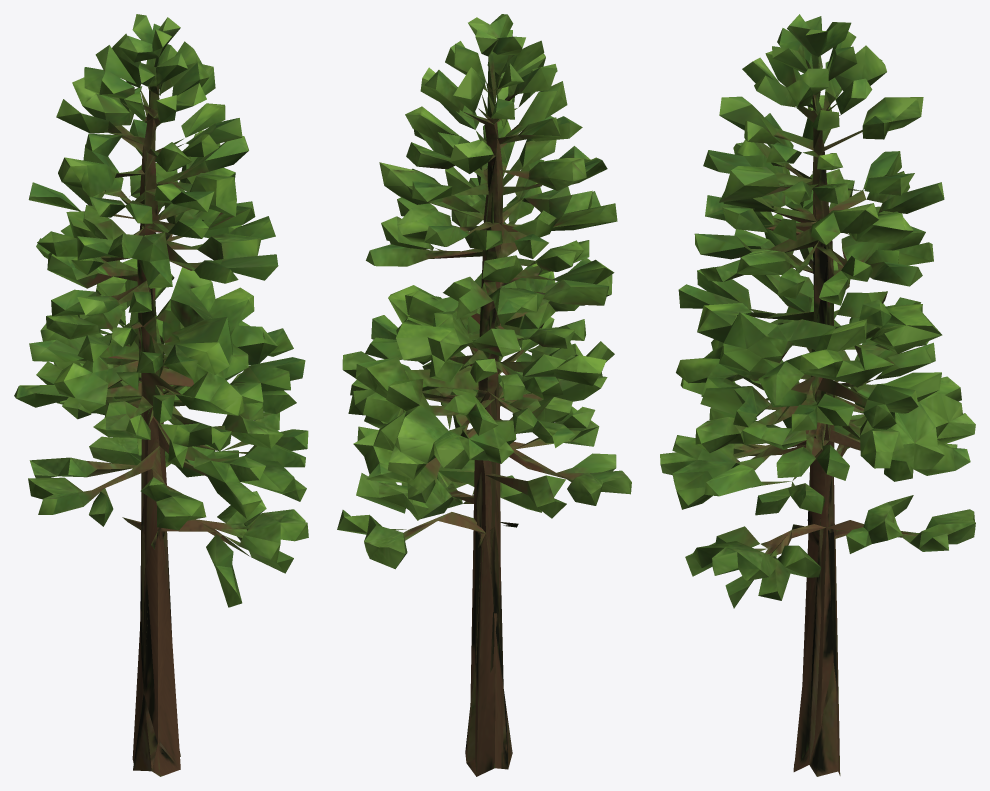
The picture shows the model from 3 angles, left to right: view 1: azimuth 30°, elevation 25°; view 2: azimuth 150°, elevation 25°; view 3: azimuth 270°, elevation 25°; orthographic projection.
Visible parts, largest first — view 1: pine; view 2: pine; view 3: pine.
Boxes of the visible parts, left/top/right/bottom form: pine: left=14, top=14, right=308, bottom=776; pine: left=337, top=14, right=631, bottom=776; pine: left=660, top=14, right=975, bottom=776.
Size of the model in its own units: 0.6668 by 1.87 by 0.709.
1 material, 1 textured.
